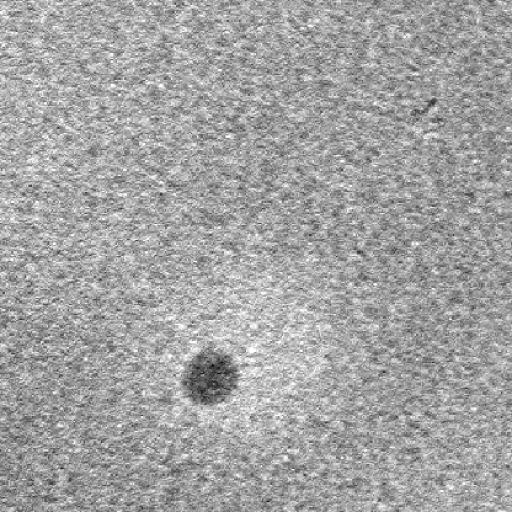Nanoparticles: (181, 344, 243, 410)
